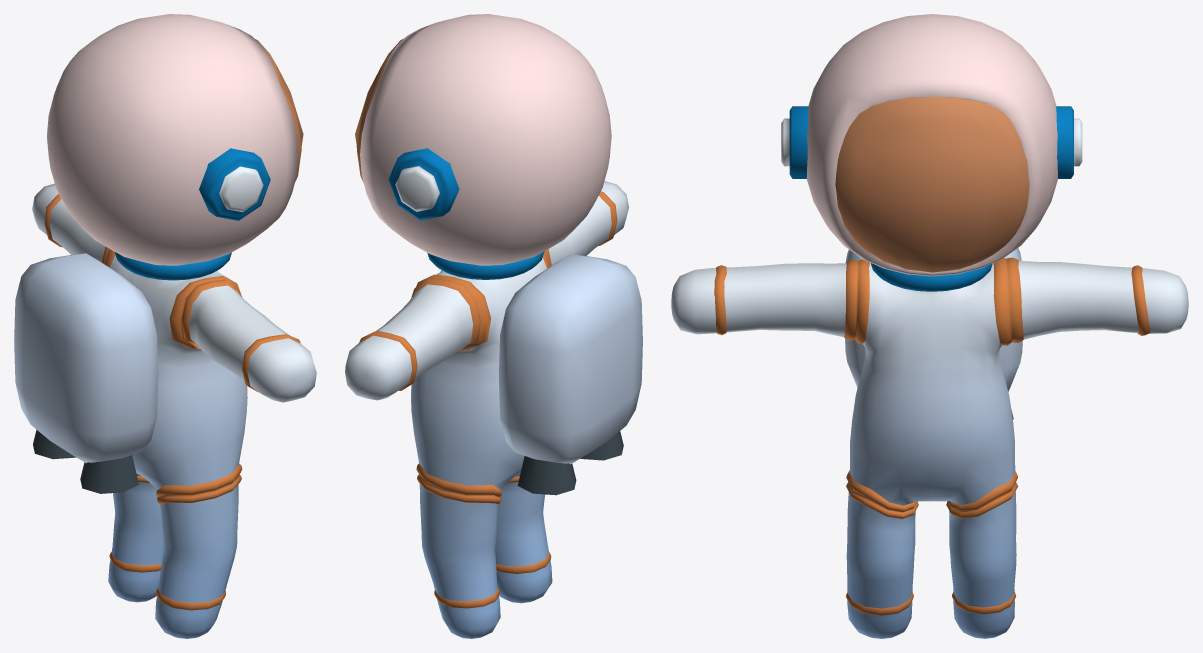
Rendered from Main_Char (2).fbx.
3 renders of one model, left to right at view 1: azimuth 30°, elevation 25°; view 2: azimuth 150°, elevation 25°; view 3: azimuth 270°, elevation 25°, orthographic. The views are drawn at different scales.
Visible parts, largest first — view 1: Character2; view 2: Character2; view 3: Character2.
Part boxes in pixels (bbox=[...]): Character2: bbox=[14, 14, 316, 638]; Character2: bbox=[345, 14, 642, 638]; Character2: bbox=[671, 14, 1188, 638].
Size of the model in its own units: 52.79 by 122 by 93.23.
